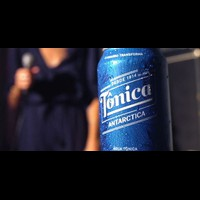tonica: (89, 43, 175, 158)
